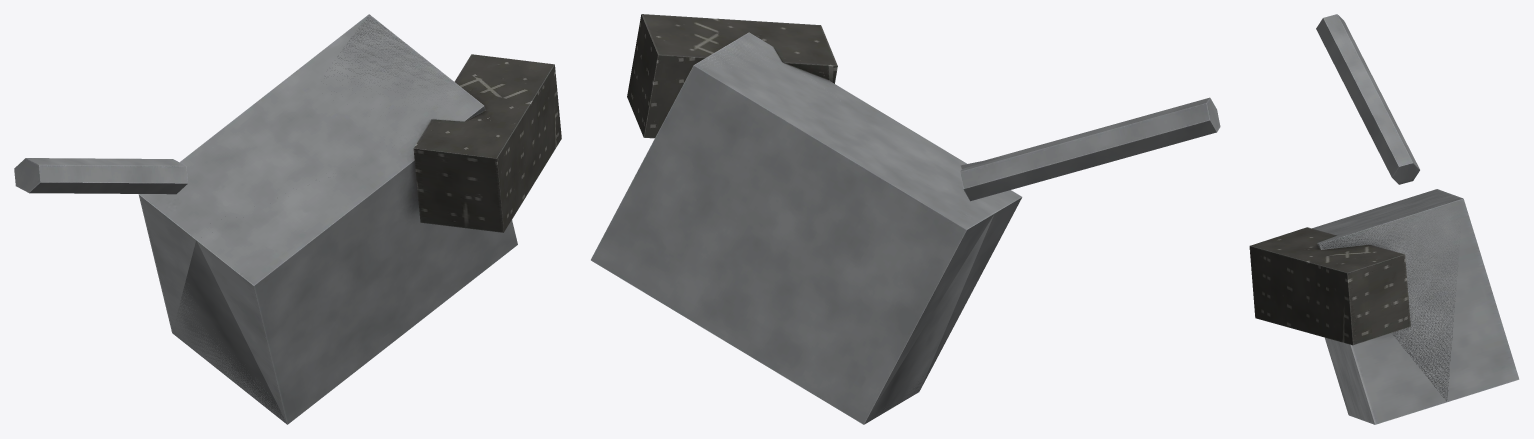
The model's file is prop_debris3.glb.
3 views of the same model, side by side, from view 1: azimuth 30°, elevation 25°; view 2: azimuth 150°, elevation 25°; view 3: azimuth 270°, elevation 25° (orthographic). The views are drawn at different scales.
Parts seen in each view (by area): view 1: LOD0_body, LOD1_body; view 2: LOD0_body, LOD1_body; view 3: LOD0_body, LOD1_body.
Boxes of the visible parts, <box> form: LOD0_body: <box>14,14,561,424</box>; LOD1_body: <box>173,15,483,422</box>; LOD0_body: <box>591,14,1220,424</box>; LOD1_body: <box>695,33,1007,423</box>; LOD0_body: <box>1249,14,1519,424</box>; LOD1_body: <box>1320,199,1463,401</box>.
Size of the model in its own units: 1 by 0.5805 by 0.4913.
Materials: 1 (1 with a texture image).
